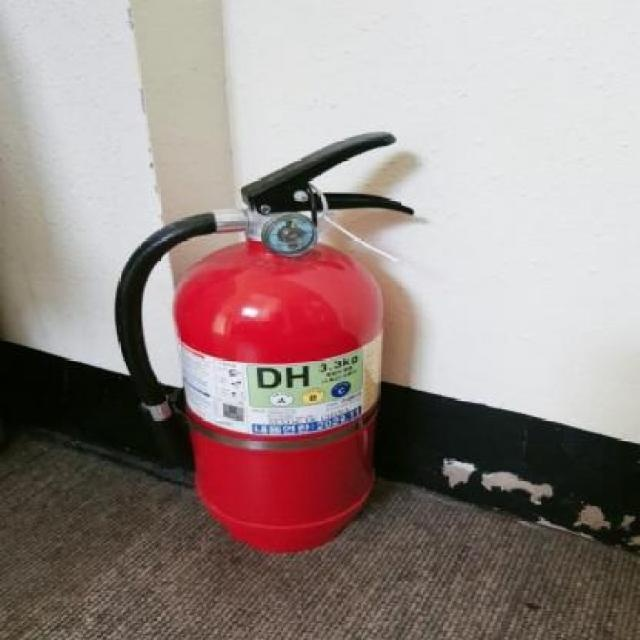fire extinguisher: (114, 132, 415, 553)
